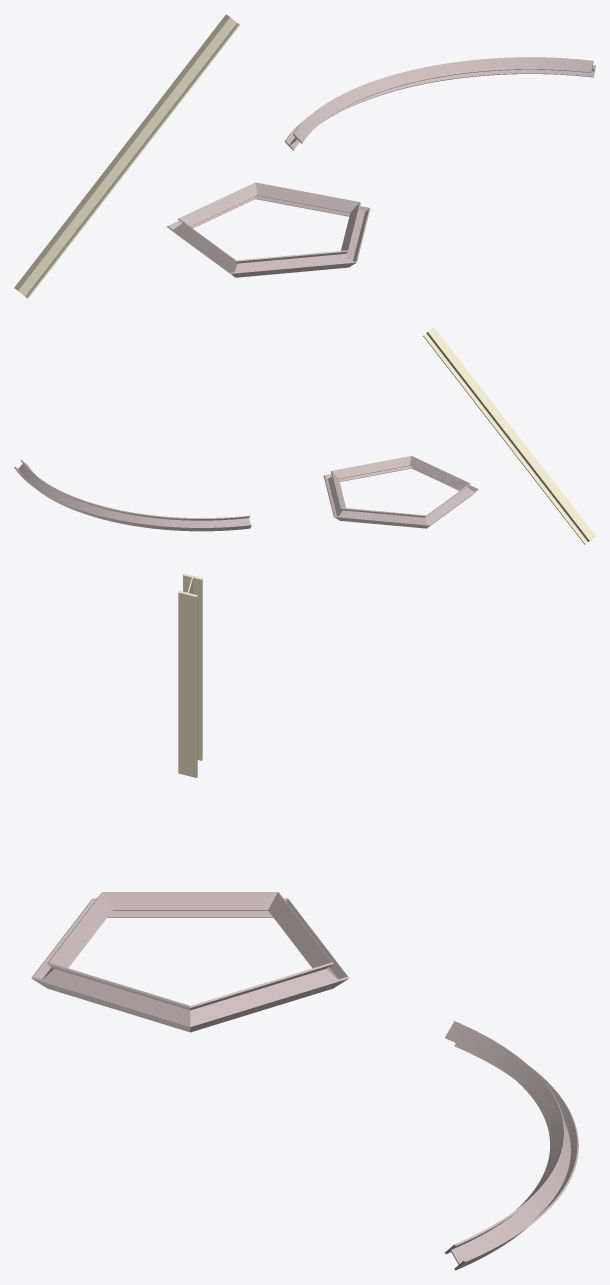
File: Elements_Beam.glb
3 views of the same model, one above another, from view 1: azimuth 30°, elevation 25°; view 2: azimuth 150°, elevation 25°; view 3: azimuth 270°, elevation 25° (orthographic). The views are drawn at different scales.
Parts seen in each view (by area): view 1: a3f66519-a73c-4e7a-b7d0-c4f0ca1c2861_mesh, 8cb8193b-3641-4053-a8aa-605d44162b31_mesh, f247bfe7-0b93-46e7-94c2-02c35cf73337_mesh; view 2: a3f66519-a73c-4e7a-b7d0-c4f0ca1c2861_mesh, 8cb8193b-3641-4053-a8aa-605d44162b31_mesh, f247bfe7-0b93-46e7-94c2-02c35cf73337_mesh; view 3: a3f66519-a73c-4e7a-b7d0-c4f0ca1c2861_mesh, f247bfe7-0b93-46e7-94c2-02c35cf73337_mesh, 8cb8193b-3641-4053-a8aa-605d44162b31_mesh.
Part boxes in pixels (x1,y1,x2,y2): a3f66519-a73c-4e7a-b7d0-c4f0ca1c2861_mesh: [167, 182, 370, 277]; 8cb8193b-3641-4053-a8aa-605d44162b31_mesh: [14, 14, 239, 298]; f247bfe7-0b93-46e7-94c2-02c35cf73337_mesh: [284, 57, 595, 150]; a3f66519-a73c-4e7a-b7d0-c4f0ca1c2861_mesh: [323, 456, 478, 528]; 8cb8193b-3641-4053-a8aa-605d44162b31_mesh: [423, 327, 595, 544]; f247bfe7-0b93-46e7-94c2-02c35cf73337_mesh: [14, 459, 251, 531]; a3f66519-a73c-4e7a-b7d0-c4f0ca1c2861_mesh: [31, 892, 349, 1032]; f247bfe7-0b93-46e7-94c2-02c35cf73337_mesh: [445, 1021, 578, 1270]; 8cb8193b-3641-4053-a8aa-605d44162b31_mesh: [178, 573, 202, 777].
Size of the model in its own units: 15.79 by 5.31 by 7.32.
